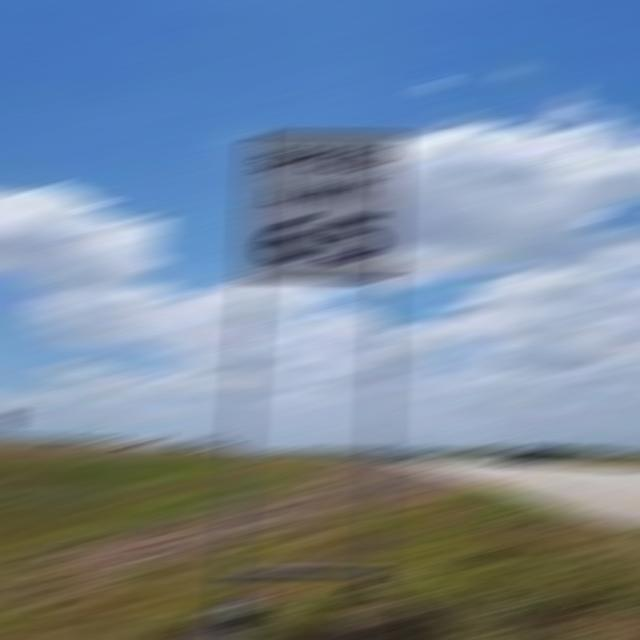speedLimit65: (238, 125, 405, 283)
